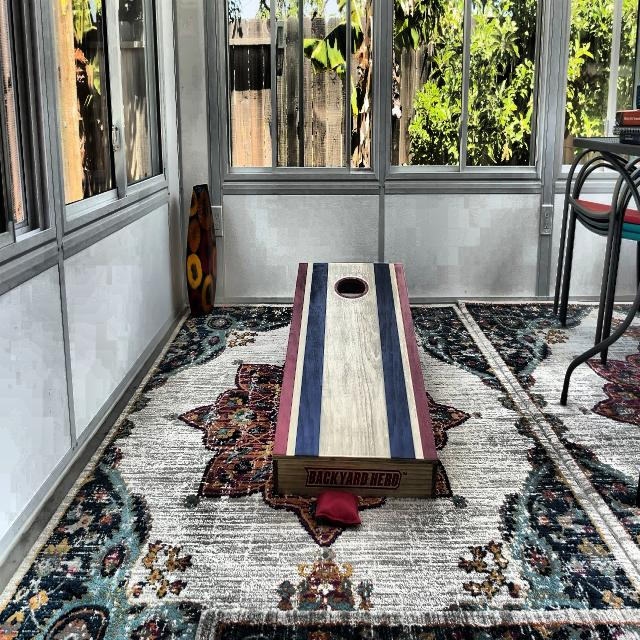board: (293, 264, 411, 456)
hole: (334, 275, 369, 299)
red-bean-bag: (314, 491, 360, 524)
